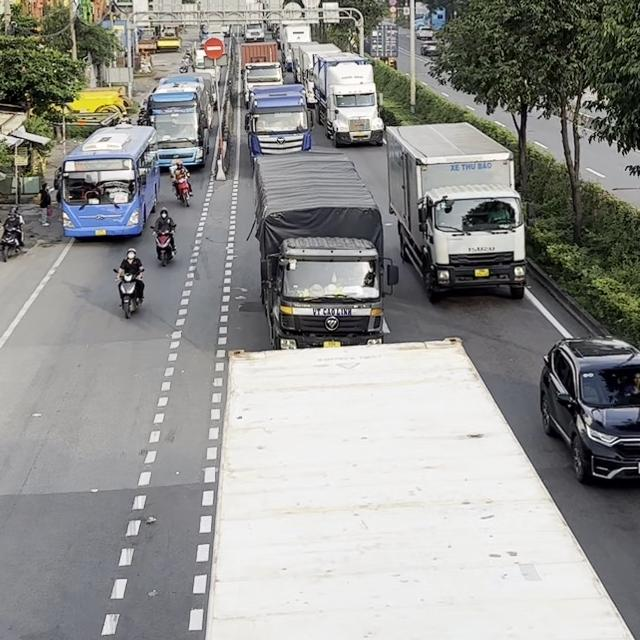bus: (57, 123, 161, 239), (140, 73, 214, 169)
car: (538, 335, 639, 485)
motorcycle: (112, 267, 145, 319), (149, 224, 176, 267), (0, 220, 22, 262), (171, 173, 193, 207)
truck: (199, 335, 639, 640), (251, 150, 398, 349), (384, 120, 527, 303), (308, 50, 385, 146), (244, 83, 314, 160), (241, 60, 284, 109)
